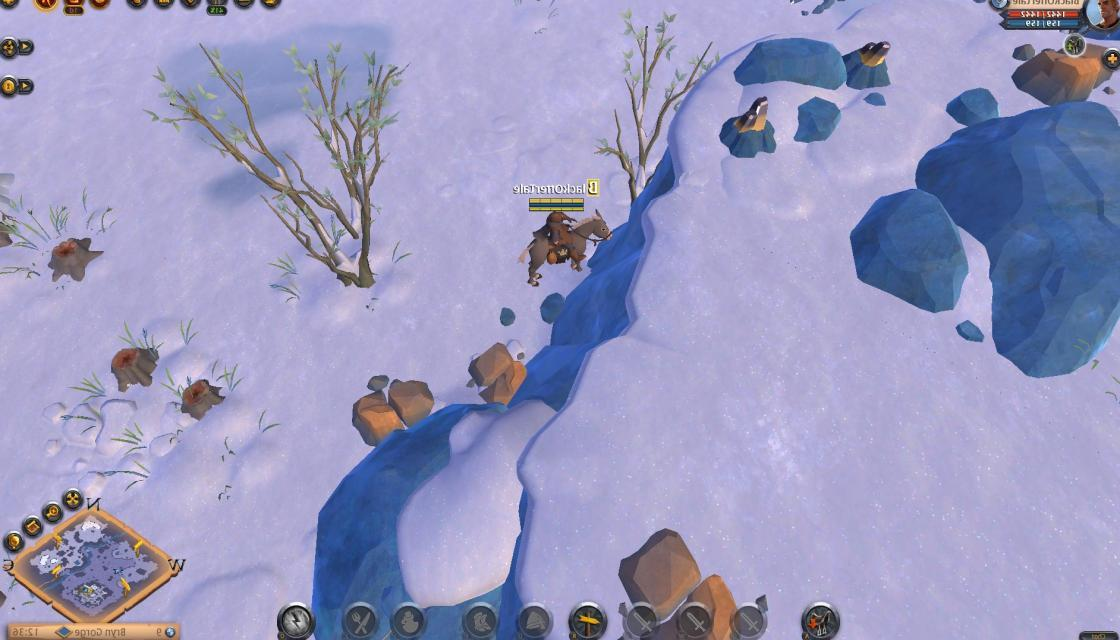copperore: (718, 93, 786, 162), (839, 40, 896, 93)
limestone: (620, 519, 740, 640), (348, 373, 438, 447), (1010, 42, 1120, 102), (462, 338, 532, 410)
